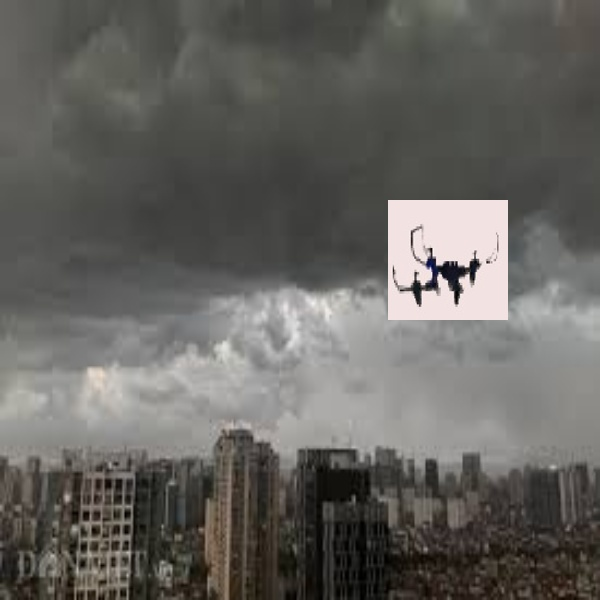drone: (386, 203, 507, 319)
